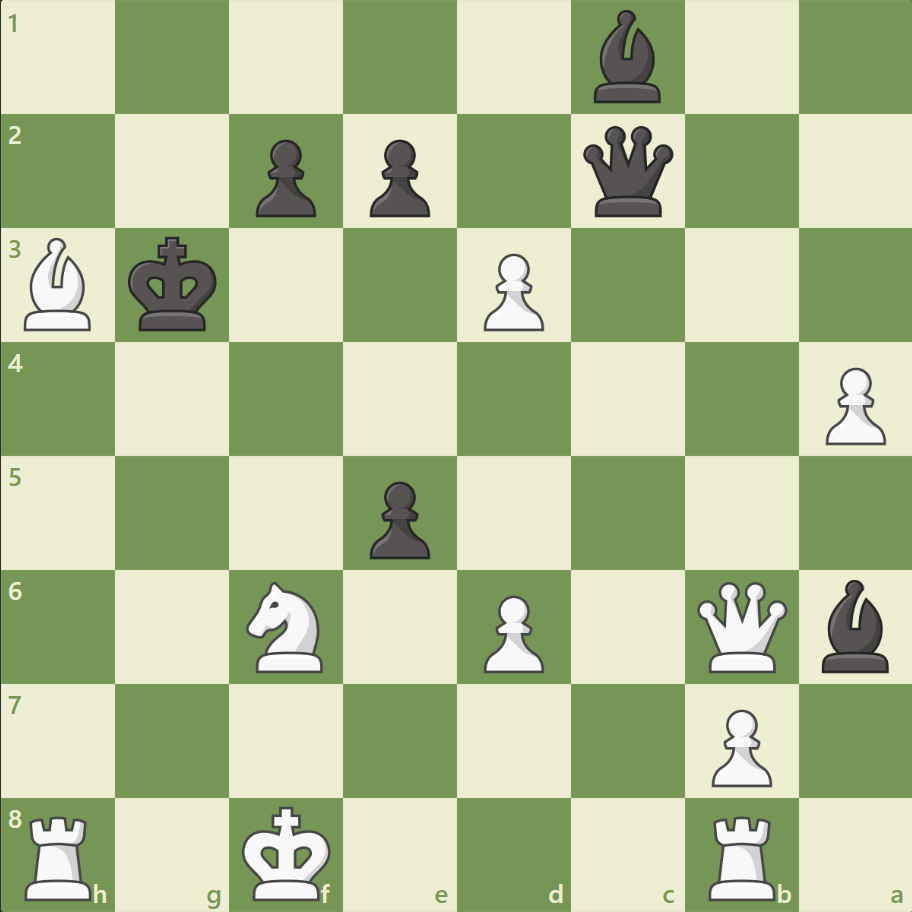B: (17, 233, 101, 336)
K: (238, 798, 338, 906)
N: (238, 575, 335, 677)
P: (701, 700, 776, 791), (474, 586, 549, 677), (474, 246, 549, 337), (815, 359, 889, 450)
Q: (691, 576, 790, 676)
R: (700, 806, 783, 904), (19, 806, 102, 904)
b: (585, 6, 669, 109), (812, 574, 896, 676)
k: (124, 231, 224, 339)
p: (247, 132, 322, 223), (361, 473, 435, 564), (361, 132, 435, 223)
q: (578, 122, 677, 222)
